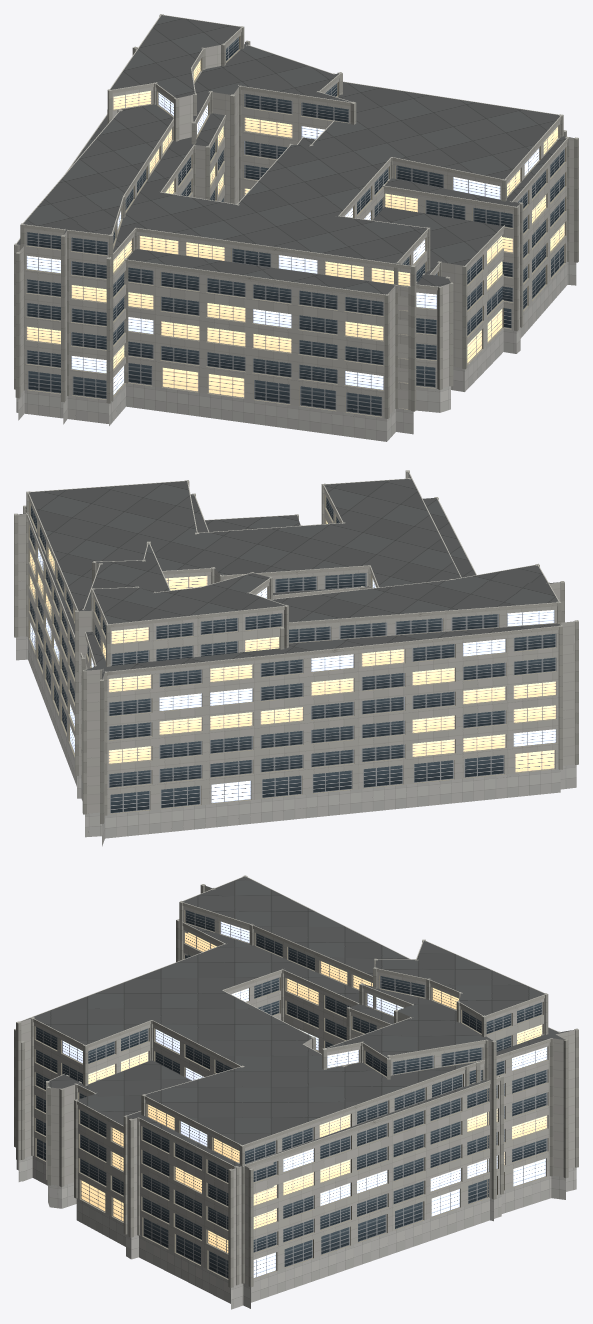
The model's file is k39w3_froschauer.glb.
3 views of the same model, one above another, from view 1: azimuth 30°, elevation 25°; view 2: azimuth 150°, elevation 25°; view 3: azimuth 270°, elevation 25° (orthographic). The views are drawn at different scales.
Visible parts, largest first — view 1: k39w3_froschauer; view 2: k39w3_froschauer; view 3: k39w3_froschauer.
Part boxes in pixels (x1,y1,x2,y2): k39w3_froschauer: [14, 14, 578, 441]; k39w3_froschauer: [14, 470, 578, 846]; k39w3_froschauer: [14, 875, 578, 1309].
Bounding box in the file's own units: 83.93 × 30 × 76.83.
3 materials, 3 textured.
